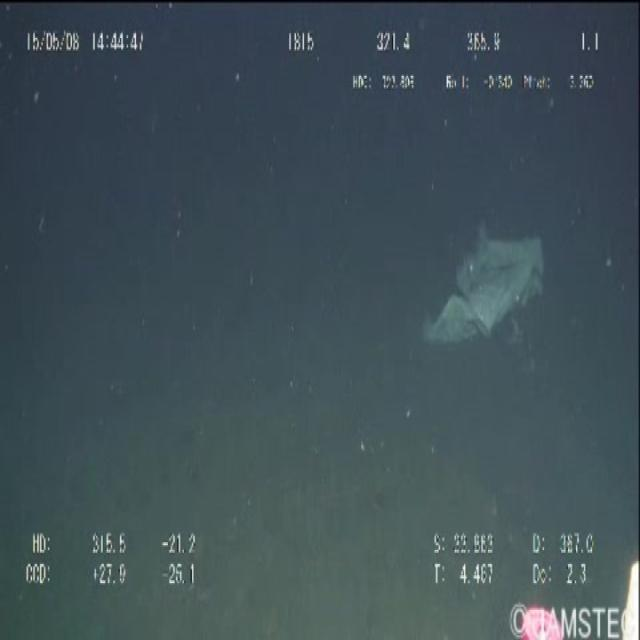Plastic: (406, 218, 580, 353)
